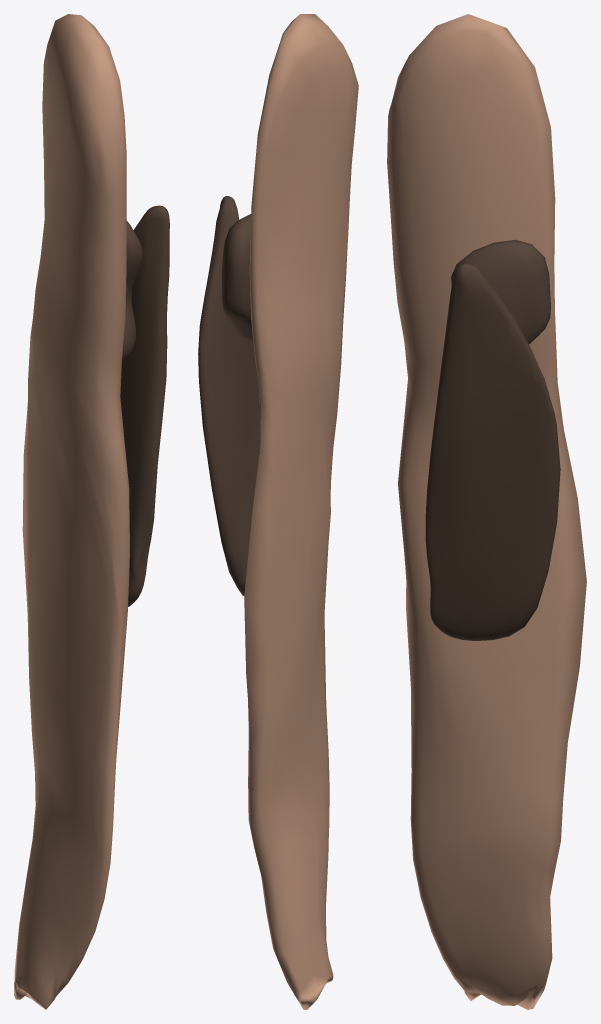
The model's file is obs_vertical_02.fbx.
3 renders of one model, left to right at view 1: azimuth 30°, elevation 25°; view 2: azimuth 150°, elevation 25°; view 3: azimuth 270°, elevation 25°, orthographic. The views are drawn at different scales.
Visible parts, largest first — view 1: vertical.001; view 2: vertical.001; view 3: vertical.001.
Part boxes in pixels (x1,y1,x2,y2): vertical.001: (14,14,169,1009); vertical.001: (198,14,358,1009); vertical.001: (387,14,586,1009).
Size of the model in its own units: 0.5572 by 4.2 by 0.7508.
